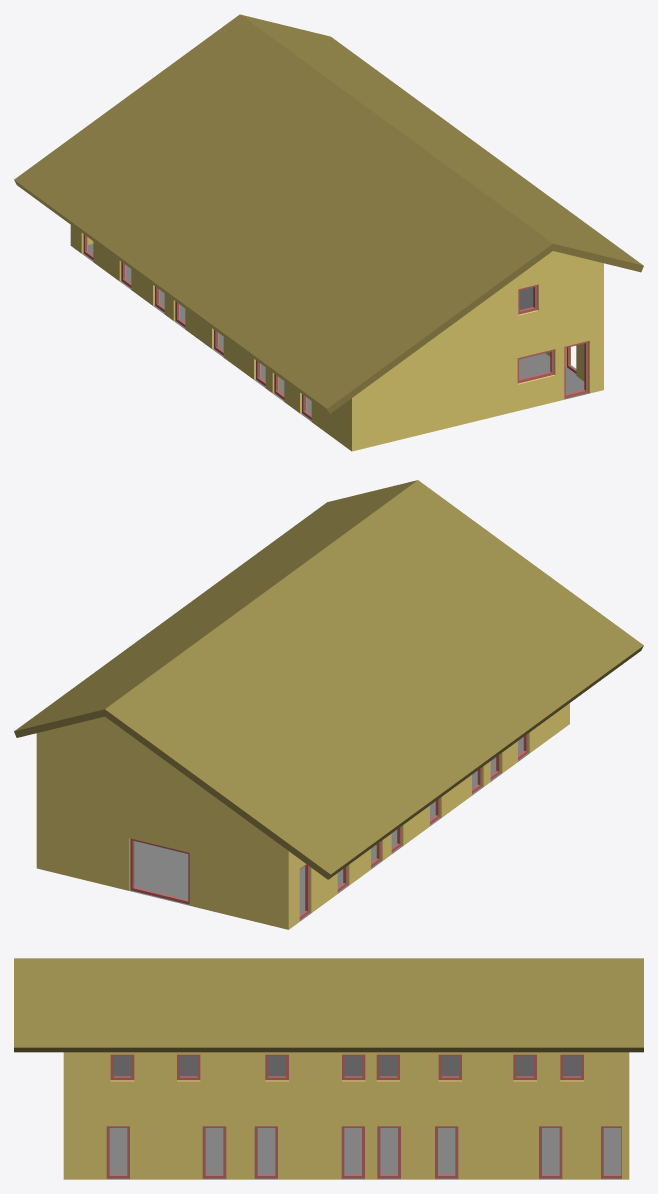
Rendered from result.glb.
The picture shows the model from 3 angles, top to bottom: view 1: azimuth 30°, elevation 25°; view 2: azimuth 150°, elevation 25°; view 3: azimuth 270°, elevation 25°; orthographic projection.
Visible parts, largest first — view 1: 8d250030-4682-4110-a8ca-647dcb4114d9__undefined (×2), 99f44dda-c27e-4e75-8a8b-ce7b1f24e79a__undefined, a6b236ed-8c1c-4491-b3ea-d356efccb466__Plane_36; view 2: 8d250030-4682-4110-a8ca-647dcb4114d9__undefined (×2), 99f44dda-c27e-4e75-8a8b-ce7b1f24e79a__undefined, a6b236ed-8c1c-4491-b3ea-d356efccb466__Plane_36, 051275cd-b0ce-4711-9bc4-f3ccb547ec82__Box_9; view 3: 8d250030-4682-4110-a8ca-647dcb4114d9__undefined, 99f44dda-c27e-4e75-8a8b-ce7b1f24e79a__undefined, a6b236ed-8c1c-4491-b3ea-d356efccb466__Plane_36, 4ddaf84e-1c15-4c81-b464-35666f1a9441__Box_108, e7f50617-5ab0-4619-8190-a480fa710b9c__Box_63, 35c3d88d-2a6d-4890-9b70-091cc6d5cba4__Box_60, f0c9f8db-b162-4fd5-8555-aa6d8bcb4b96__Box_66, 61db48a0-f25e-481b-8053-e056c47b3b4c__Box_69, bb9a0265-4eba-4329-8717-39a9e626a9ba__Box_72, 7c96902d-b503-4157-b533-f87713bbc496__Box_75, 77c85611-5a17-4beb-90ad-d7fa7cab53da__Box_78, 29e9a702-53ee-459b-a710-55a6deb397f1__Box_84 (+1 smaller).
Part boxes in pixels (x1,y1,x2,y2): 8d250030-4682-4110-a8ca-647dcb4114d9__undefined (×2): [14, 14, 643, 413]; 99f44dda-c27e-4e75-8a8b-ce7b1f24e79a__undefined: [70, 225, 603, 451]; a6b236ed-8c1c-4491-b3ea-d356efccb466__Plane_36: [82, 244, 588, 421]; 8d250030-4682-4110-a8ca-647dcb4114d9__undefined (×2): [14, 480, 643, 879]; 99f44dda-c27e-4e75-8a8b-ce7b1f24e79a__undefined: [36, 703, 569, 929]; a6b236ed-8c1c-4491-b3ea-d356efccb466__Plane_36: [129, 737, 529, 921]; 051275cd-b0ce-4711-9bc4-f3ccb547ec82__Box_9: [130, 838, 189, 904]; 8d250030-4682-4110-a8ca-647dcb4114d9__undefined: [14, 958, 643, 1052]; 99f44dda-c27e-4e75-8a8b-ce7b1f24e79a__undefined: [63, 1052, 629, 1179]; a6b236ed-8c1c-4491-b3ea-d356efccb466__Plane_36: [106, 1128, 621, 1179]; 4ddaf84e-1c15-4c81-b464-35666f1a9441__Box_108: [113, 1056, 580, 1076]; e7f50617-5ab0-4619-8190-a480fa710b9c__Box_63: [202, 1126, 226, 1178]; 35c3d88d-2a6d-4890-9b70-091cc6d5cba4__Box_60: [106, 1126, 129, 1178]; f0c9f8db-b162-4fd5-8555-aa6d8bcb4b96__Box_66: [254, 1126, 277, 1178]; 61db48a0-f25e-481b-8053-e056c47b3b4c__Box_69: [341, 1126, 364, 1178]; bb9a0265-4eba-4329-8717-39a9e626a9ba__Box_72: [377, 1126, 400, 1178]; 7c96902d-b503-4157-b533-f87713bbc496__Box_75: [435, 1126, 458, 1178]; 77c85611-5a17-4beb-90ad-d7fa7cab53da__Box_78: [539, 1126, 562, 1178]; 29e9a702-53ee-459b-a710-55a6deb397f1__Box_84: [110, 1054, 134, 1080].
Bounding box in the file's own units: 1254 × 692 × 2147.
